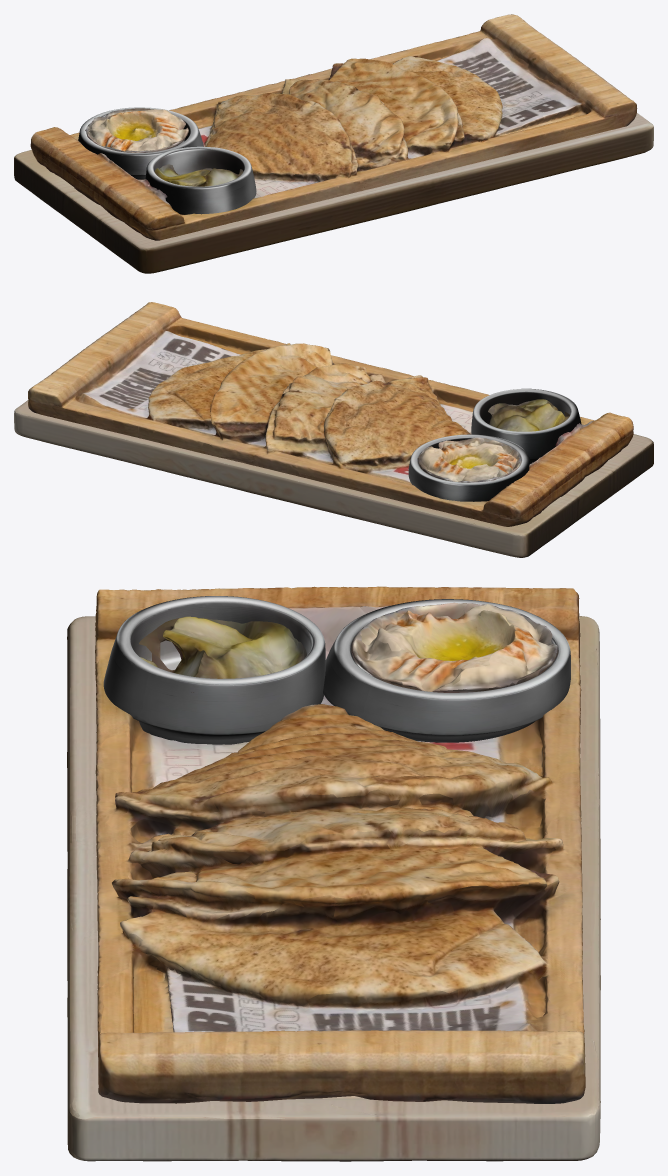
Rendered from arayas.glb.
3 renders of one model, top to bottom at view 1: azimuth 30°, elevation 25°; view 2: azimuth 150°, elevation 25°; view 3: azimuth 270°, elevation 25°, orthographic. The views are drawn at different scales.
Visible parts, largest first — view 1: /Root/Scenes/Scene/Object_376/Object_377/Submesh_0, /Root/Scenes/Scene/Object_376/Object_378/Object_379/Submesh_, /Root/Scenes/Scene/Object_376/Object_380/Object_381/Submesh_, /Root/Scenes/Scene/Object_376/Object_380/Object_382/Submesh_; view 2: /Root/Scenes/Scene/Object_376/Object_377/Submesh_0, /Root/Scenes/Scene/Object_376/Object_378/Object_379/Submesh_, /Root/Scenes/Scene/Object_376/Object_380/Object_381/Submesh_, /Root/Scenes/Scene/Object_376/Object_380/Object_382/Submesh_; view 3: /Root/Scenes/Scene/Object_376/Object_377/Submesh_0, /Root/Scenes/Scene/Object_376/Object_378/Object_379/Submesh_, /Root/Scenes/Scene/Object_376/Object_380/Object_381/Submesh_, /Root/Scenes/Scene/Object_376/Object_380/Object_382/Submesh_.
Part boxes in pixels (left/top/right/bottom): /Root/Scenes/Scene/Object_376/Object_377/Submesh_0: left=30, top=14, right=637, bottom=240; /Root/Scenes/Scene/Object_376/Object_378/Object_379/Submesh_: left=14, top=113, right=653, bottom=273; /Root/Scenes/Scene/Object_376/Object_380/Object_381/Submesh_: left=145, top=146, right=256, bottom=214; /Root/Scenes/Scene/Object_376/Object_380/Object_382/Submesh_: left=78, top=107, right=203, bottom=179; /Root/Scenes/Scene/Object_376/Object_377/Submesh_0: left=28, top=302, right=633, bottom=526; /Root/Scenes/Scene/Object_376/Object_378/Object_379/Submesh_: left=14, top=400, right=653, bottom=557; /Root/Scenes/Scene/Object_376/Object_380/Object_381/Submesh_: left=471, top=388, right=581, bottom=462; /Root/Scenes/Scene/Object_376/Object_380/Object_382/Submesh_: left=408, top=434, right=531, bottom=501; /Root/Scenes/Scene/Object_376/Object_377/Submesh_0: left=95, top=586, right=585, bottom=1103; /Root/Scenes/Scene/Object_376/Object_378/Object_379/Submesh_: left=67, top=616, right=600, bottom=1161; /Root/Scenes/Scene/Object_376/Object_380/Object_381/Submesh_: left=103, top=596, right=325, bottom=744; /Root/Scenes/Scene/Object_376/Object_380/Object_382/Submesh_: left=323, top=599, right=570, bottom=742.
Size of the model in its own units: 0.3795 by 0.0436 by 0.1705.
4 materials, 4 textured.
